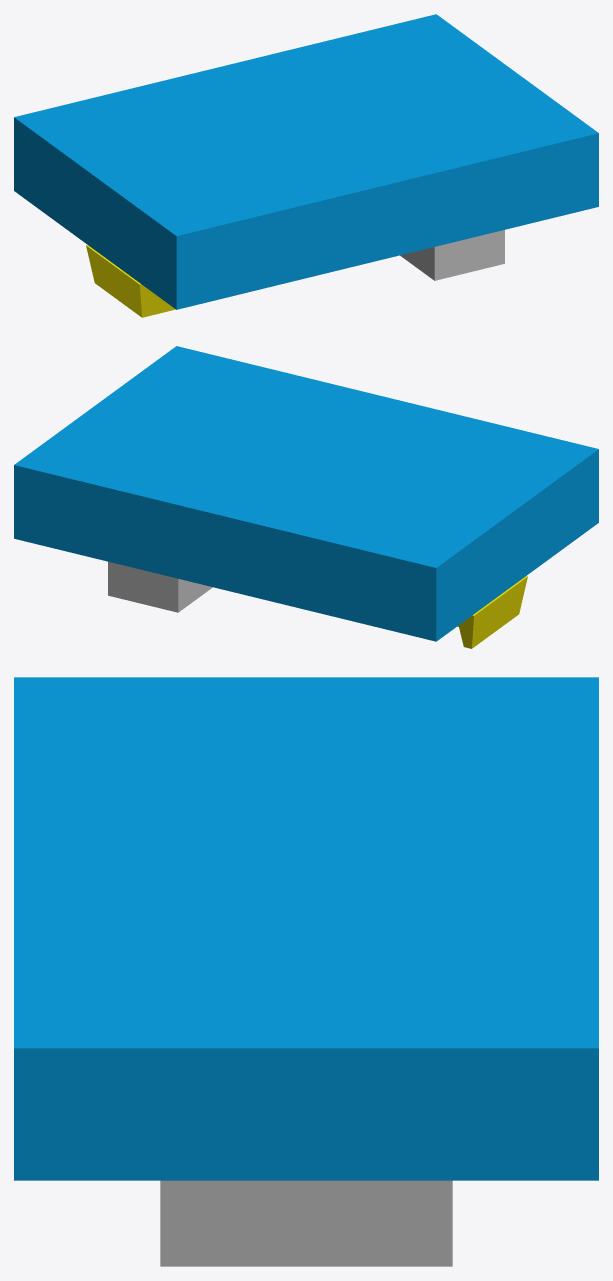
File: StoneBlock.obj
3 renders of one model, top to bottom at view 1: azimuth 30°, elevation 25°; view 2: azimuth 150°, elevation 25°; view 3: azimuth 270°, elevation 25°, orthographic. The views are drawn at different scales.
Parts seen in each view (by area): view 1: Object.1, Object.2, Object.4; view 2: Object.1, Object.2, Object.4; view 3: Object.1, Object.2.
Part boxes in pixels (x1,y1,x2,y2): Object.1: [14, 14, 598, 309]; Object.2: [400, 230, 504, 280]; Object.4: [86, 245, 175, 317]; Object.1: [14, 346, 598, 641]; Object.2: [108, 561, 212, 612]; Object.4: [457, 576, 527, 648]; Object.1: [14, 677, 598, 1180]; Object.2: [160, 1180, 452, 1266].
Size of the model in its own units: 0.06 by 0.02 by 0.04.
